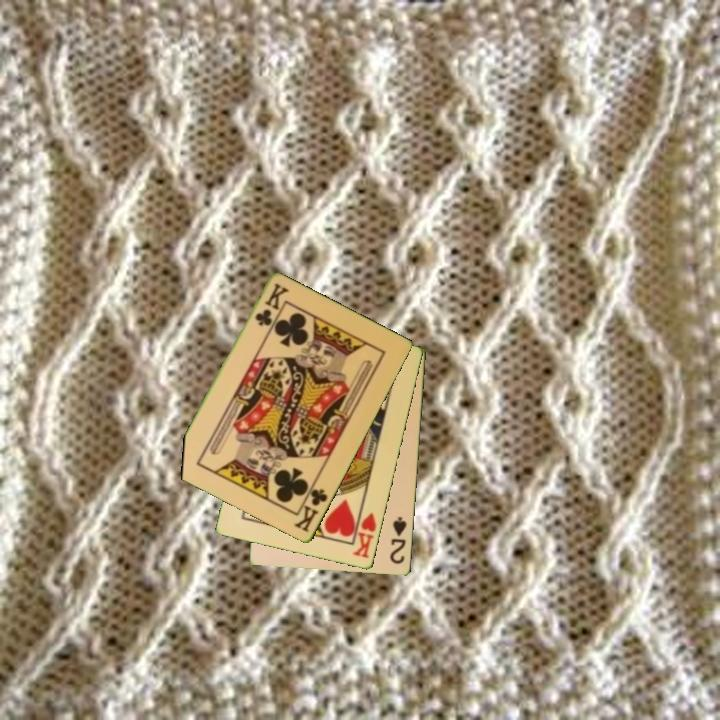2s: (387, 514, 410, 567)
Kc: (291, 479, 331, 536), (251, 280, 289, 330)
Kh: (350, 504, 379, 561)
